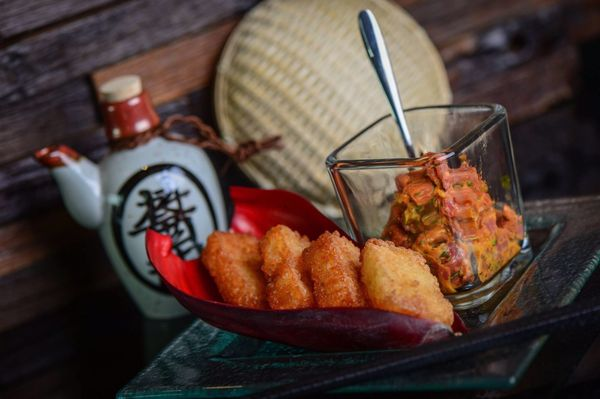pizza: (324, 102, 527, 295)
